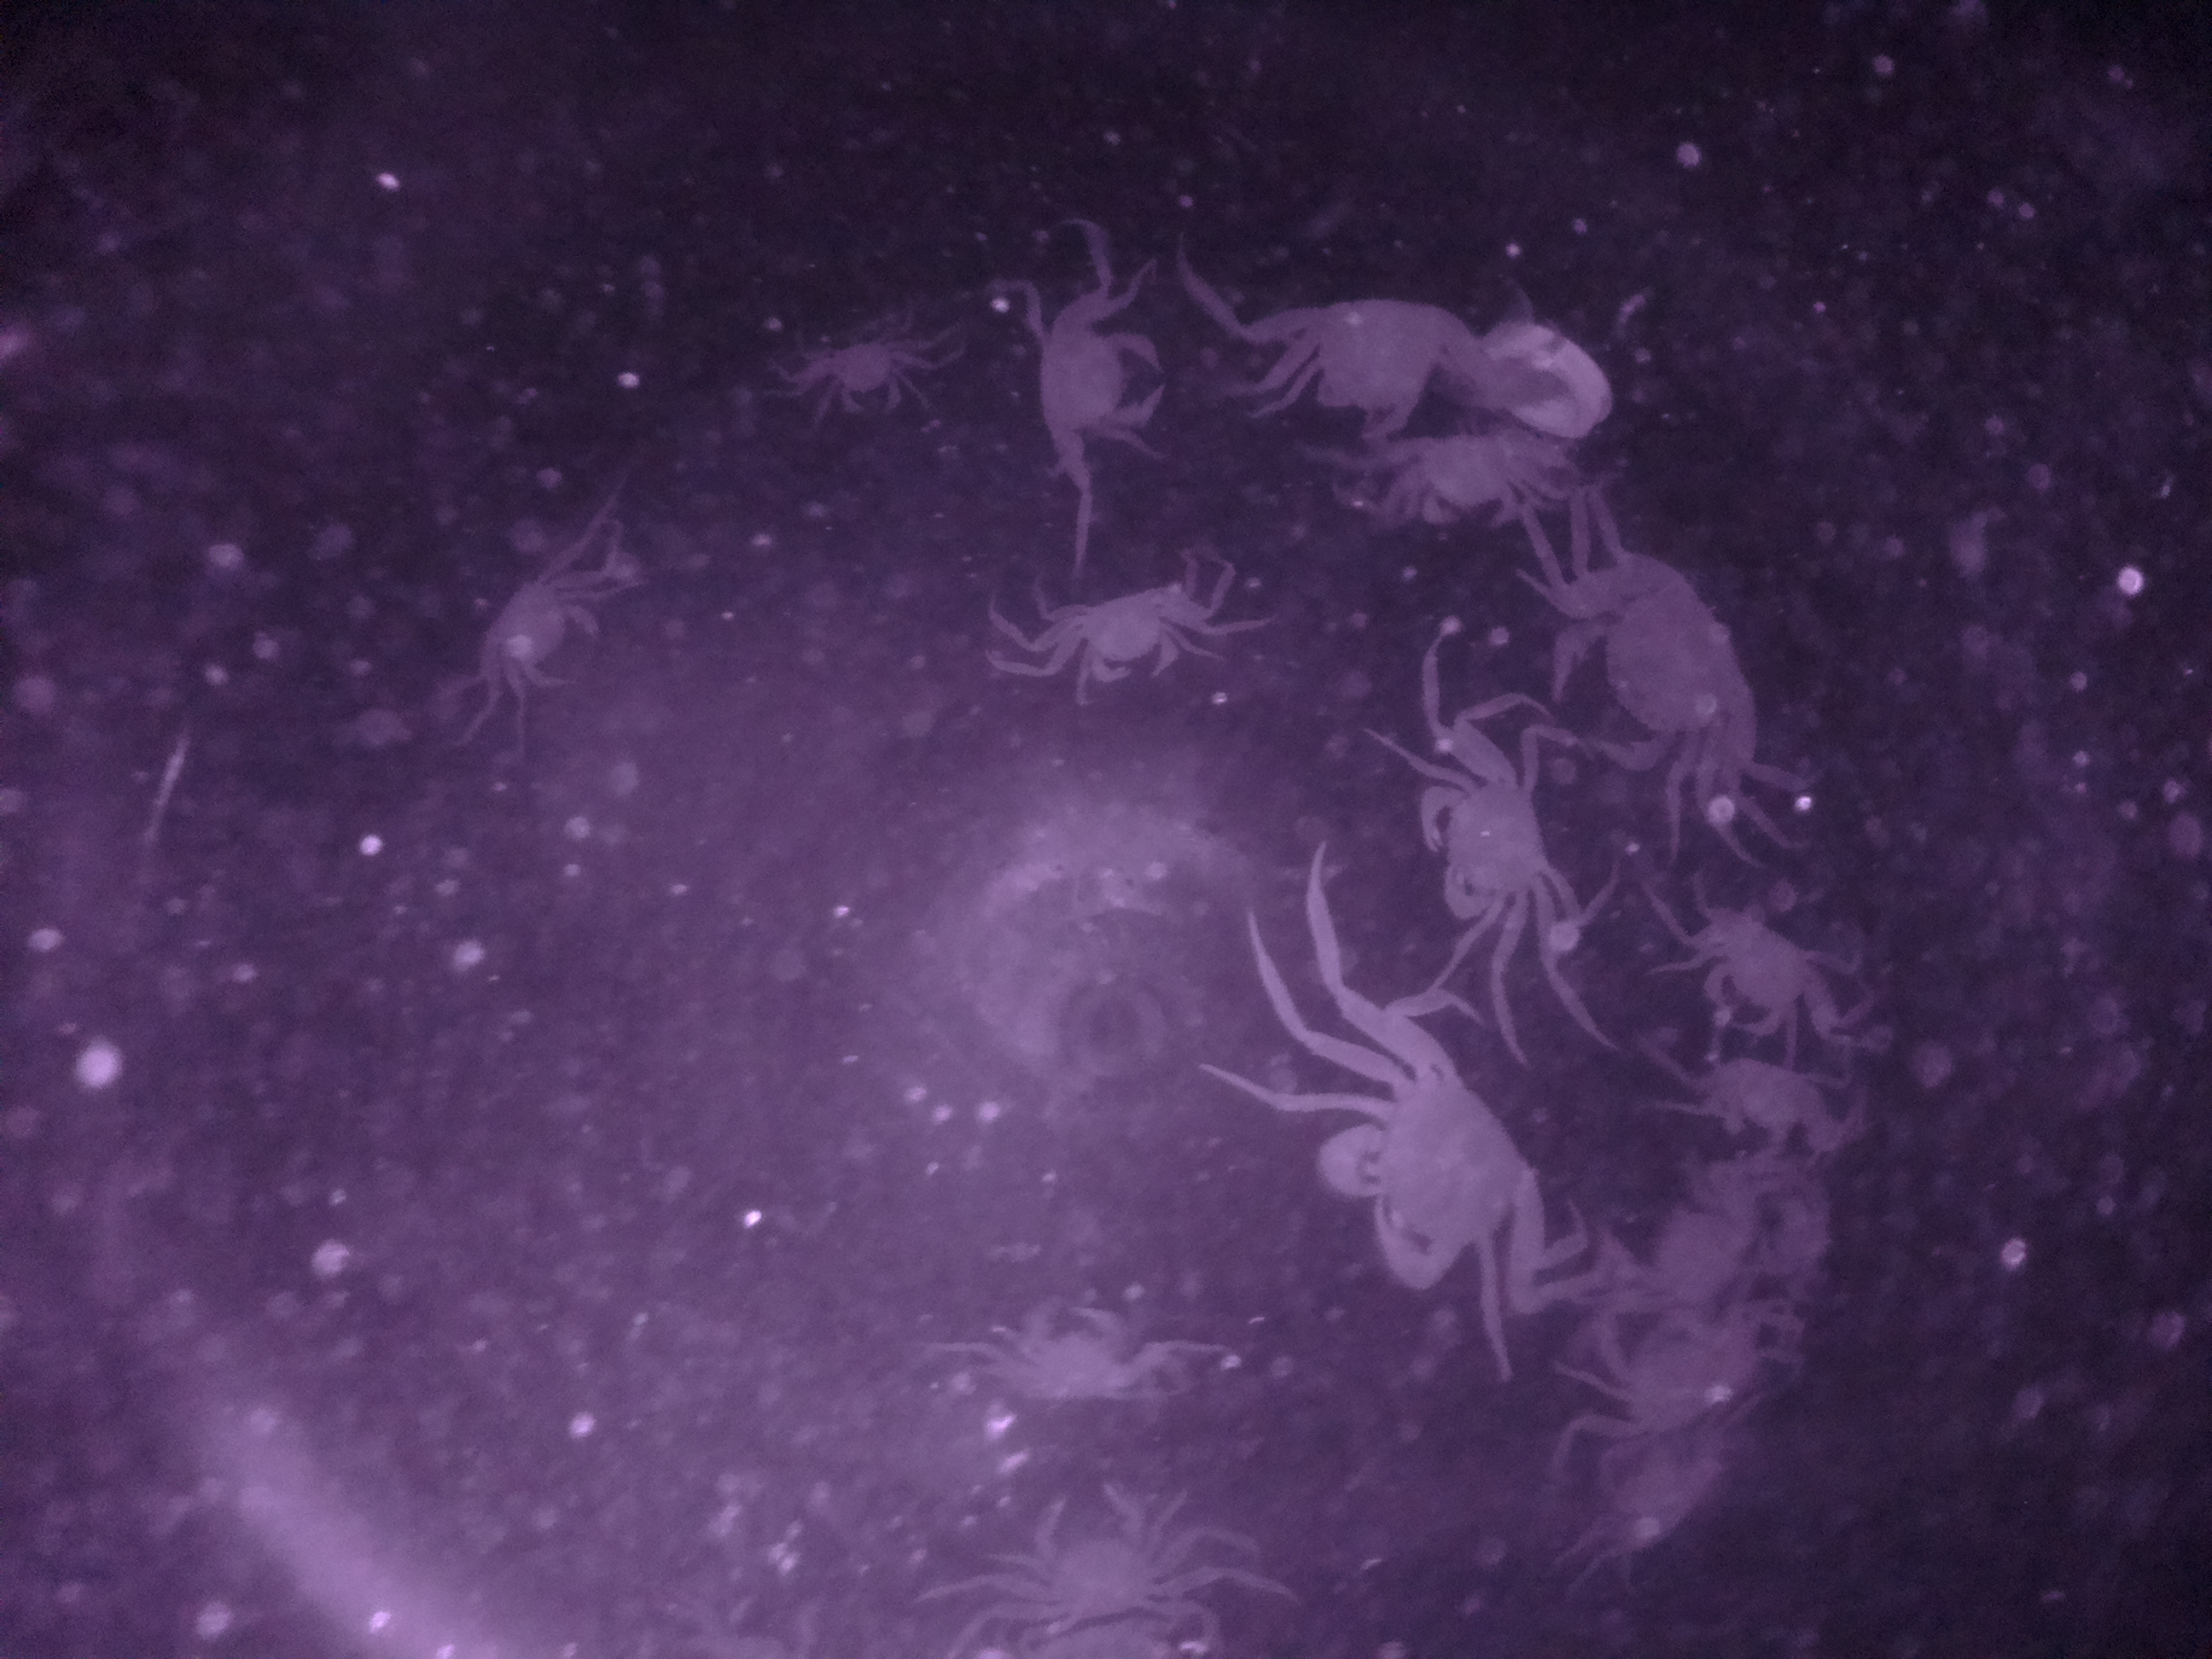Crab: (1308, 1035, 1538, 1310), (1536, 540, 1778, 784), (1271, 277, 1496, 430), (1674, 871, 1844, 1051), (1003, 281, 1176, 457), (1406, 760, 1571, 929), (469, 556, 611, 708), (1038, 573, 1200, 701), (798, 314, 918, 423)
